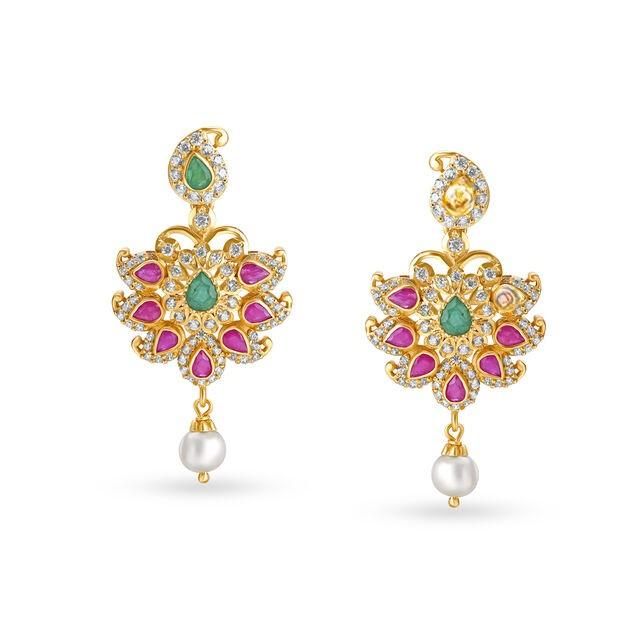missing gem: (443, 172, 473, 216), (495, 287, 525, 308)
